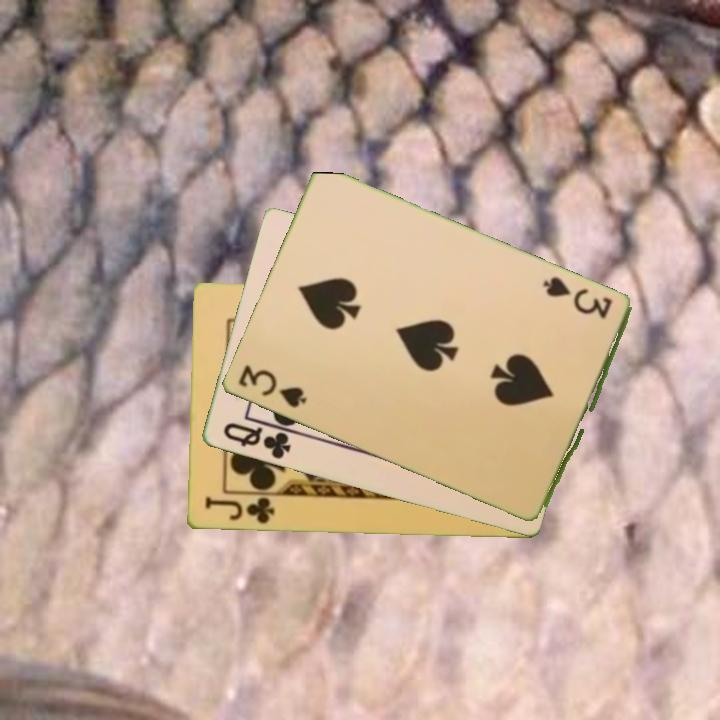3s: (234, 361, 310, 412), (542, 273, 615, 322)
Jc: (201, 494, 277, 527)
Qc: (219, 419, 294, 463)
